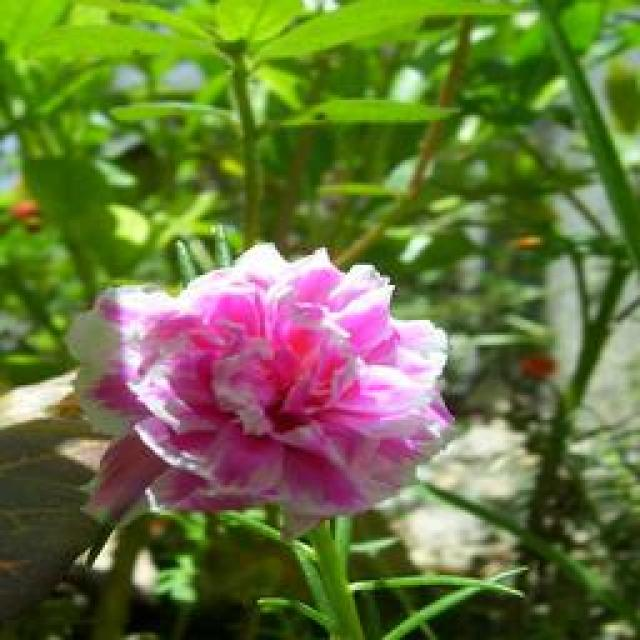carnation: (58, 231, 474, 541)
